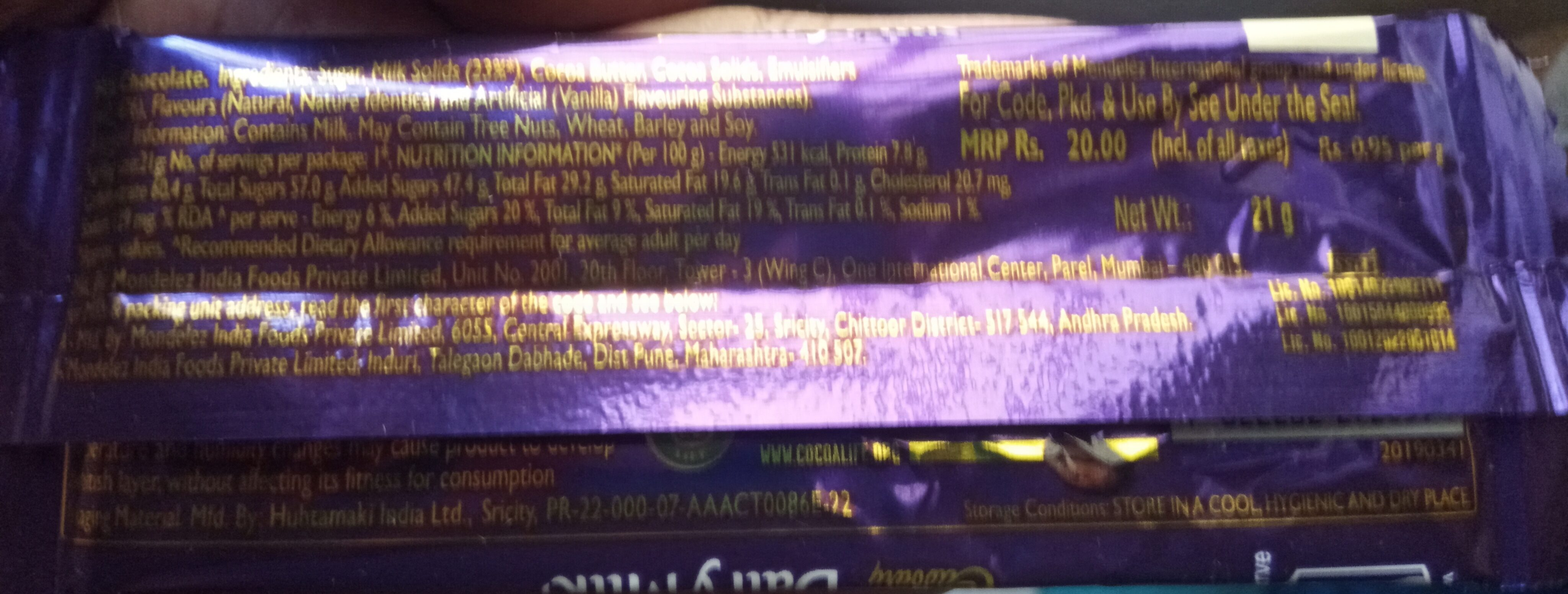Dairy Milk: (118, 45, 1450, 549)
